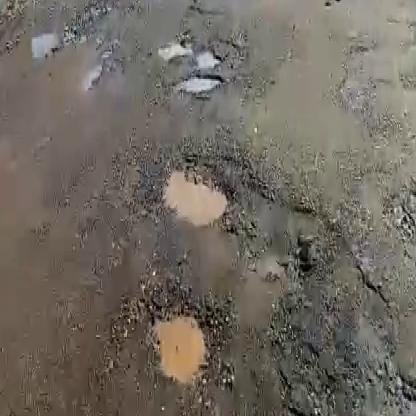pothole: (158, 159, 233, 226), (149, 309, 210, 382), (156, 41, 225, 67), (173, 68, 224, 94)
